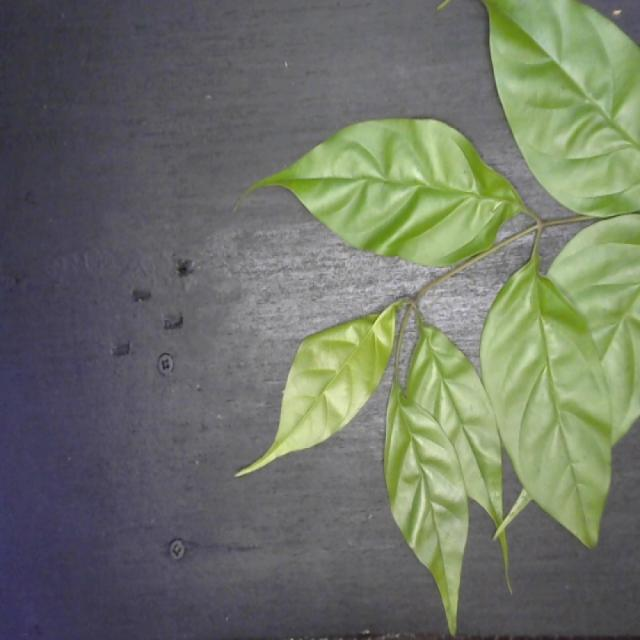biodegradable: (228, 0, 640, 640)
